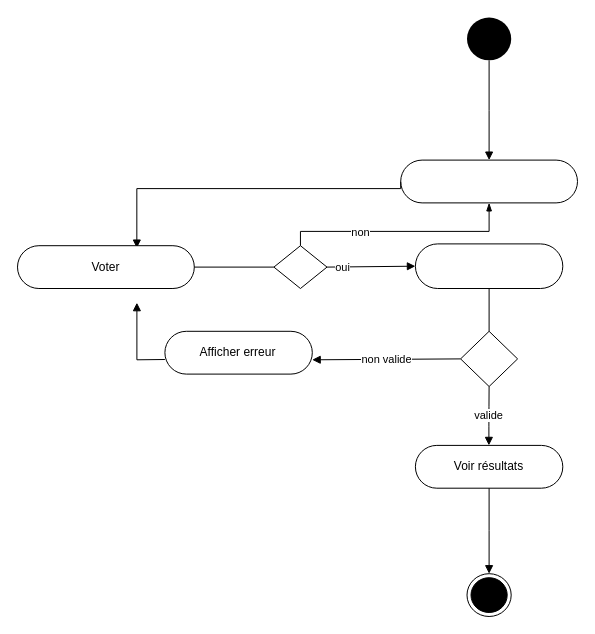
Image size: 595x634. Some labels were removed from this diagram. The shapes that lost their labels are listed below. From the top down, each one's box as (x1, y1, x2, y2) in pixels, then its label:
(400, 159, 578, 203): afficher liste candidats
(414, 243, 563, 288): Controle vote
